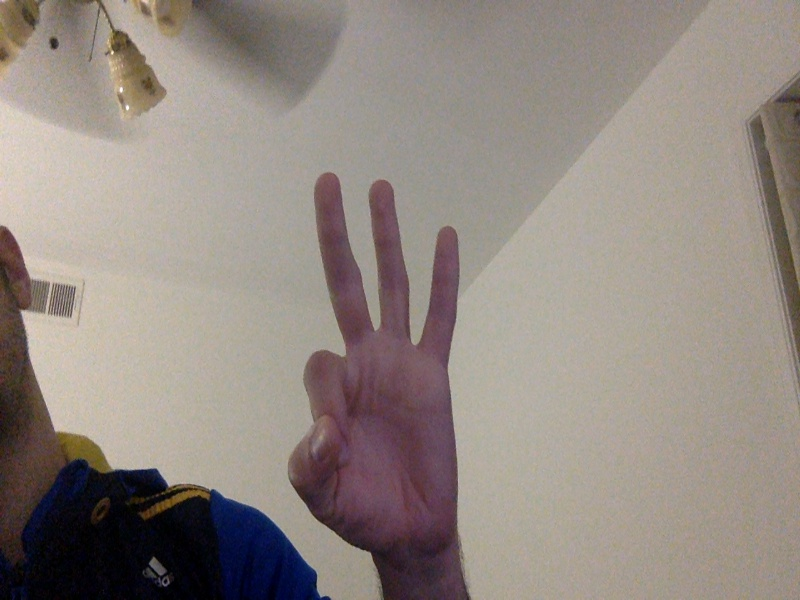3-hand: (290, 173, 463, 558)
